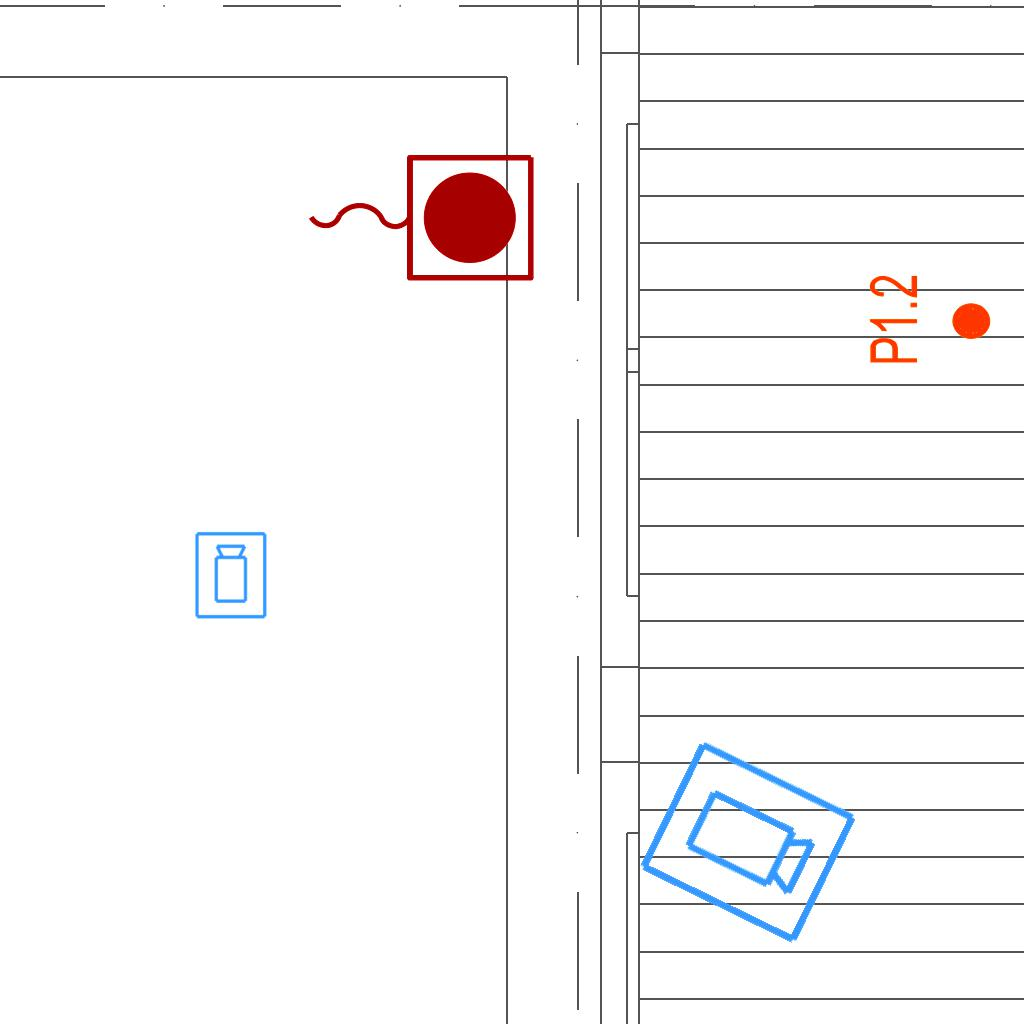Downlight_LED_Einbauleuchten_Flur: (866, 273, 994, 366)
KFO_Kamera_mit_Festobjektiv: (631, 733, 863, 953), (193, 530, 270, 621)
Zugtaster: (298, 144, 542, 288)
